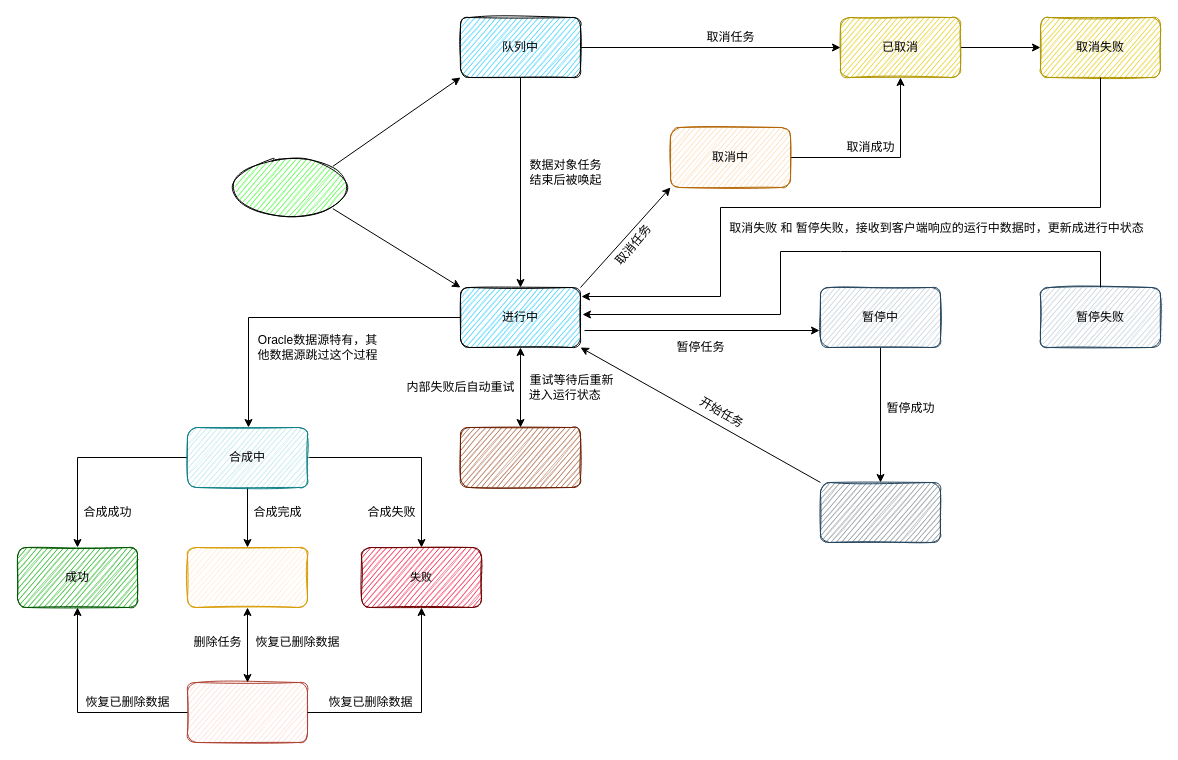
Some shapes in this 1178 by 760 pixel diagram are drawn without their labels. The shapes that lost their labels are listed below. From the top down, each one's box as (x1, y1, x2, y2) in pixels, then its label:
(230, 156, 350, 218): 开始
(460, 426, 580, 488): 重试等待中
(820, 482, 940, 542): 已暂停
(186, 546, 308, 608): 完成
(186, 682, 308, 742): 已删除
